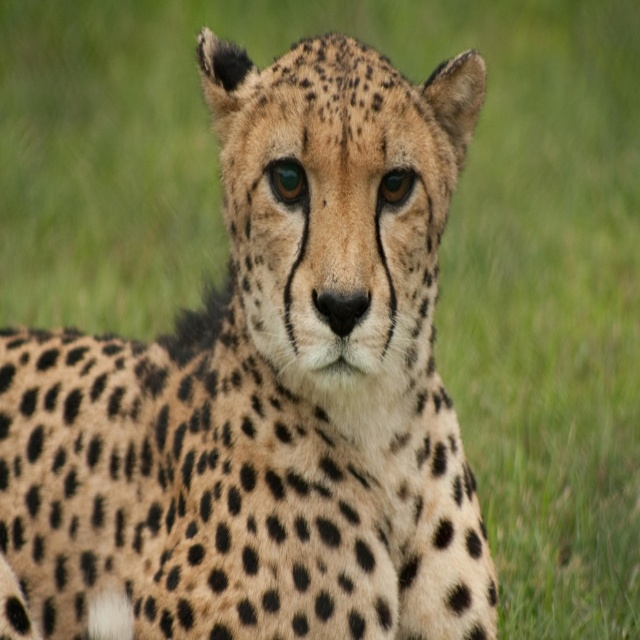Cheetah: (0, 24, 500, 639)
